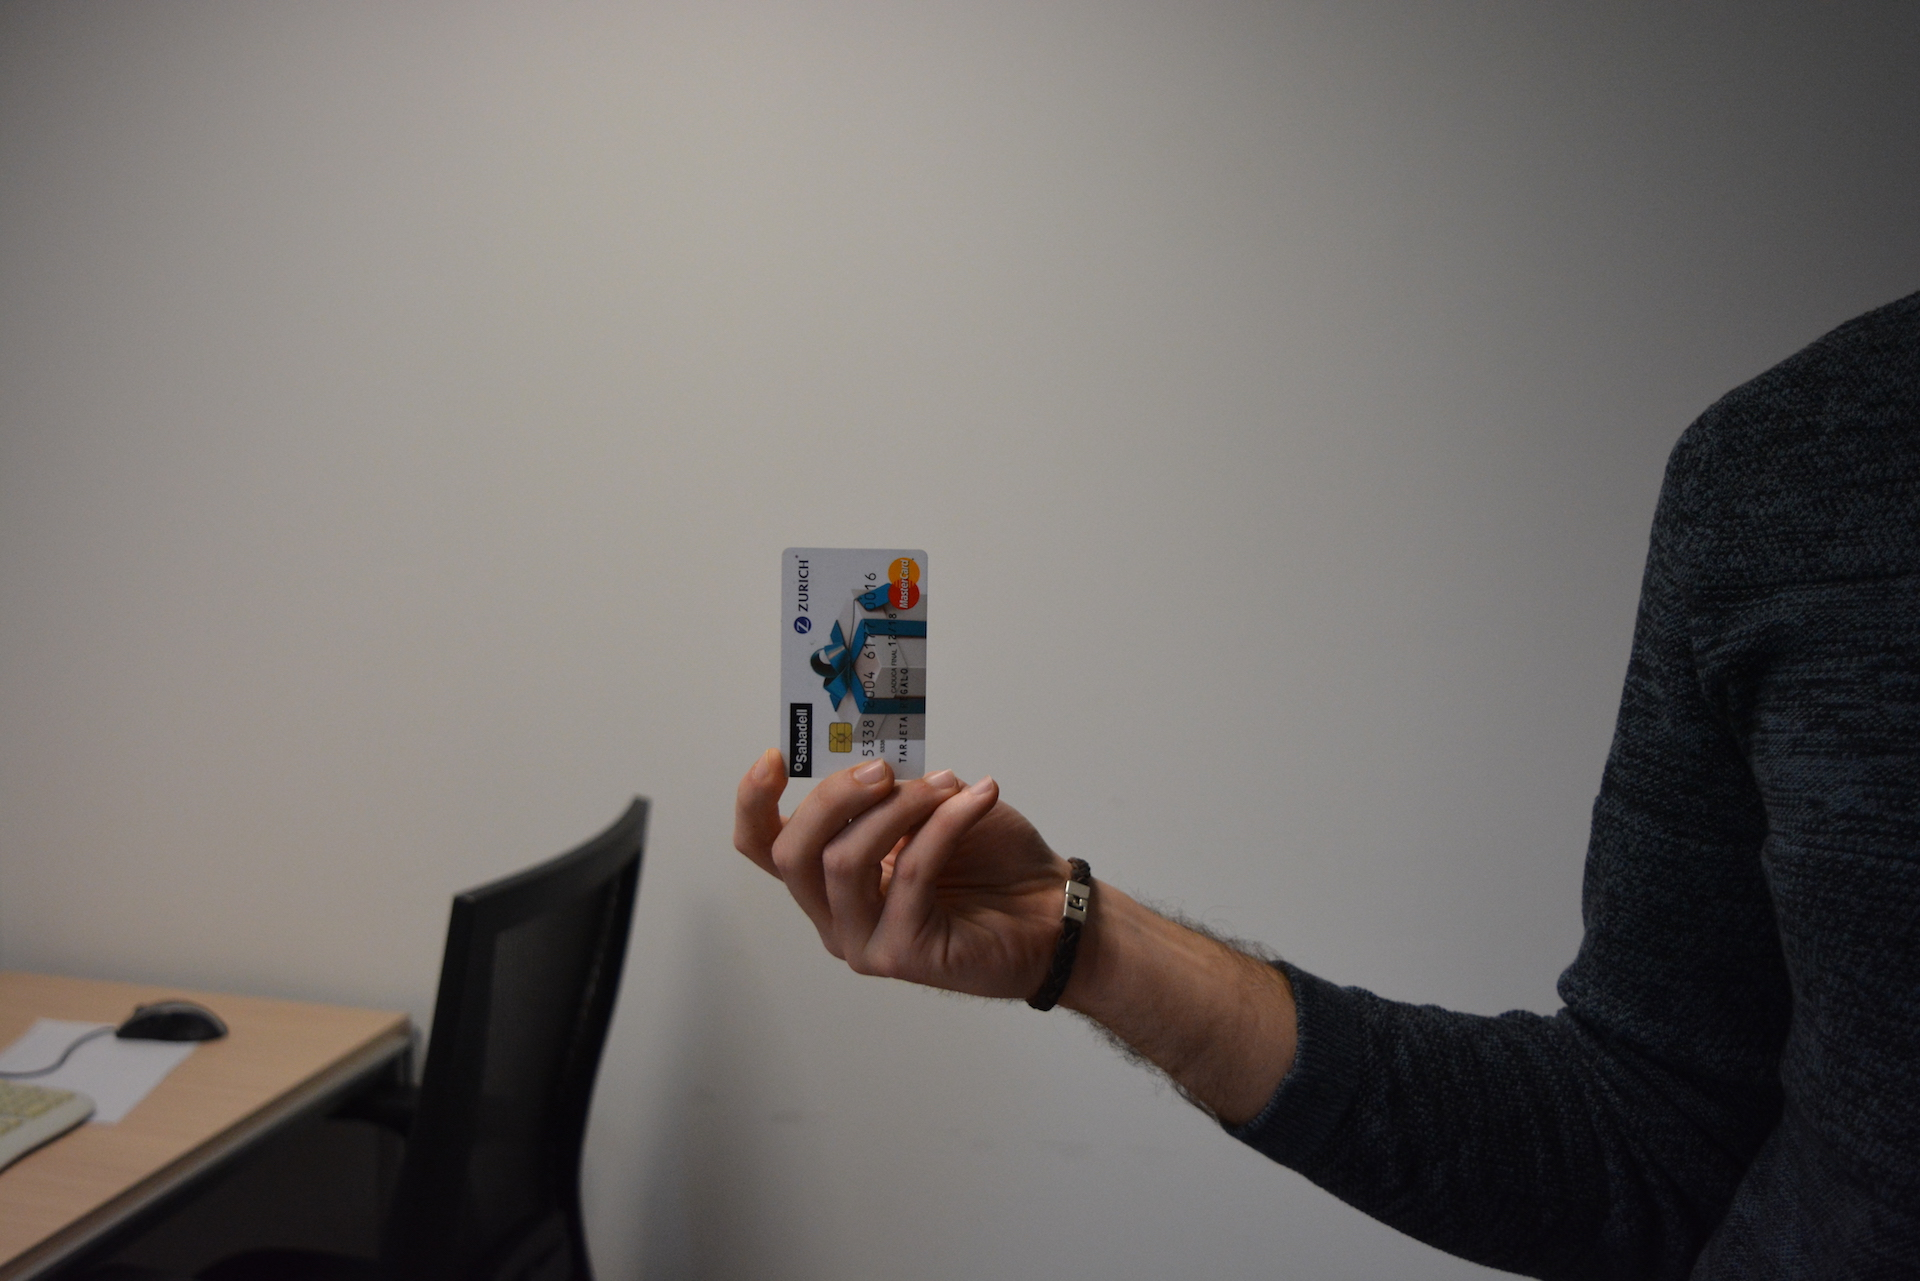tarjeta: (778, 546, 931, 783)
